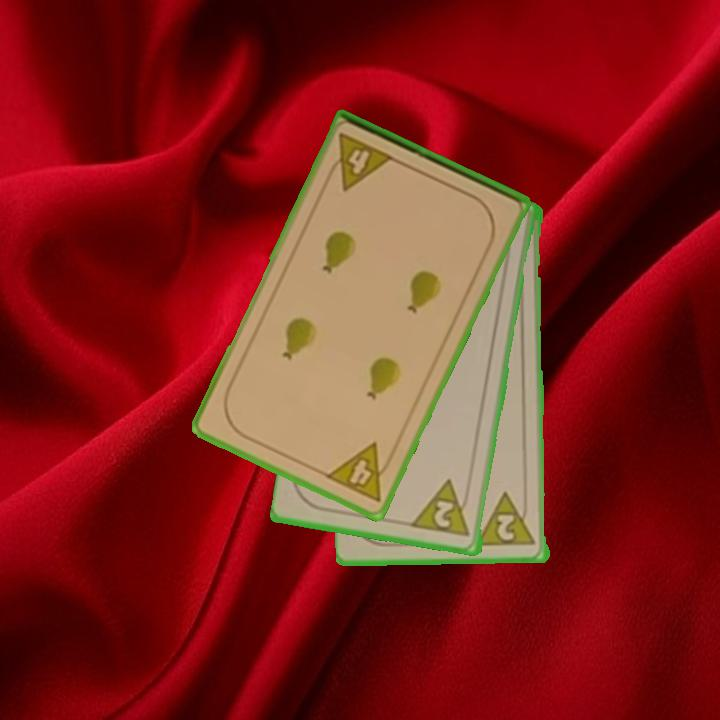2p: (411, 477, 474, 540), (476, 490, 539, 549)
4p: (322, 439, 399, 505), (322, 129, 397, 194)
